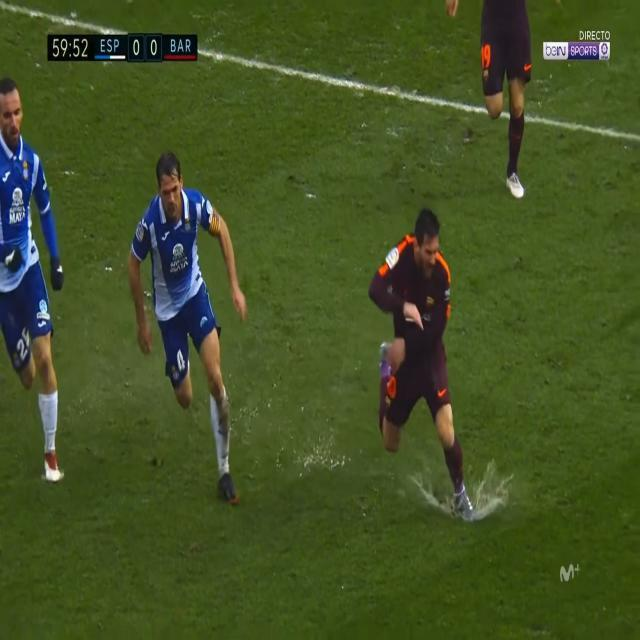player: (114, 150, 265, 547), (361, 188, 483, 529), (0, 63, 72, 542)
